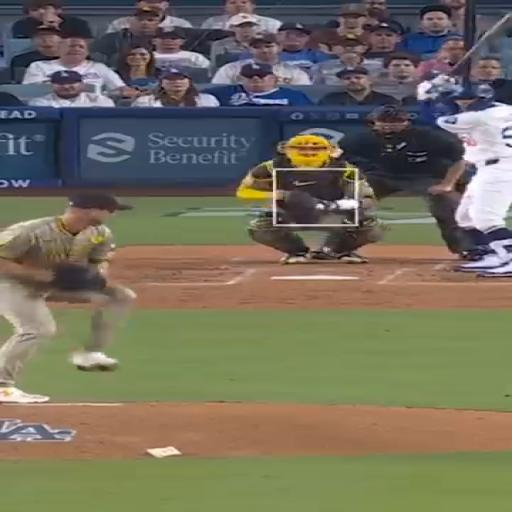bat: (450, 12, 511, 75)
